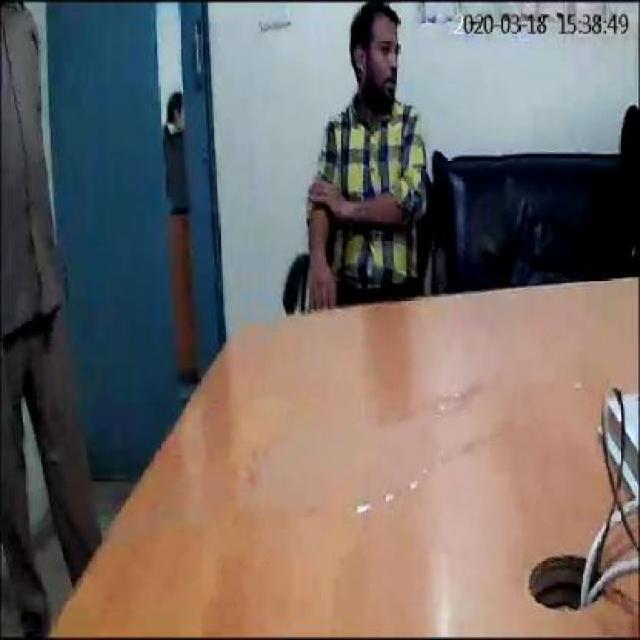spill: (249, 418, 449, 528)
